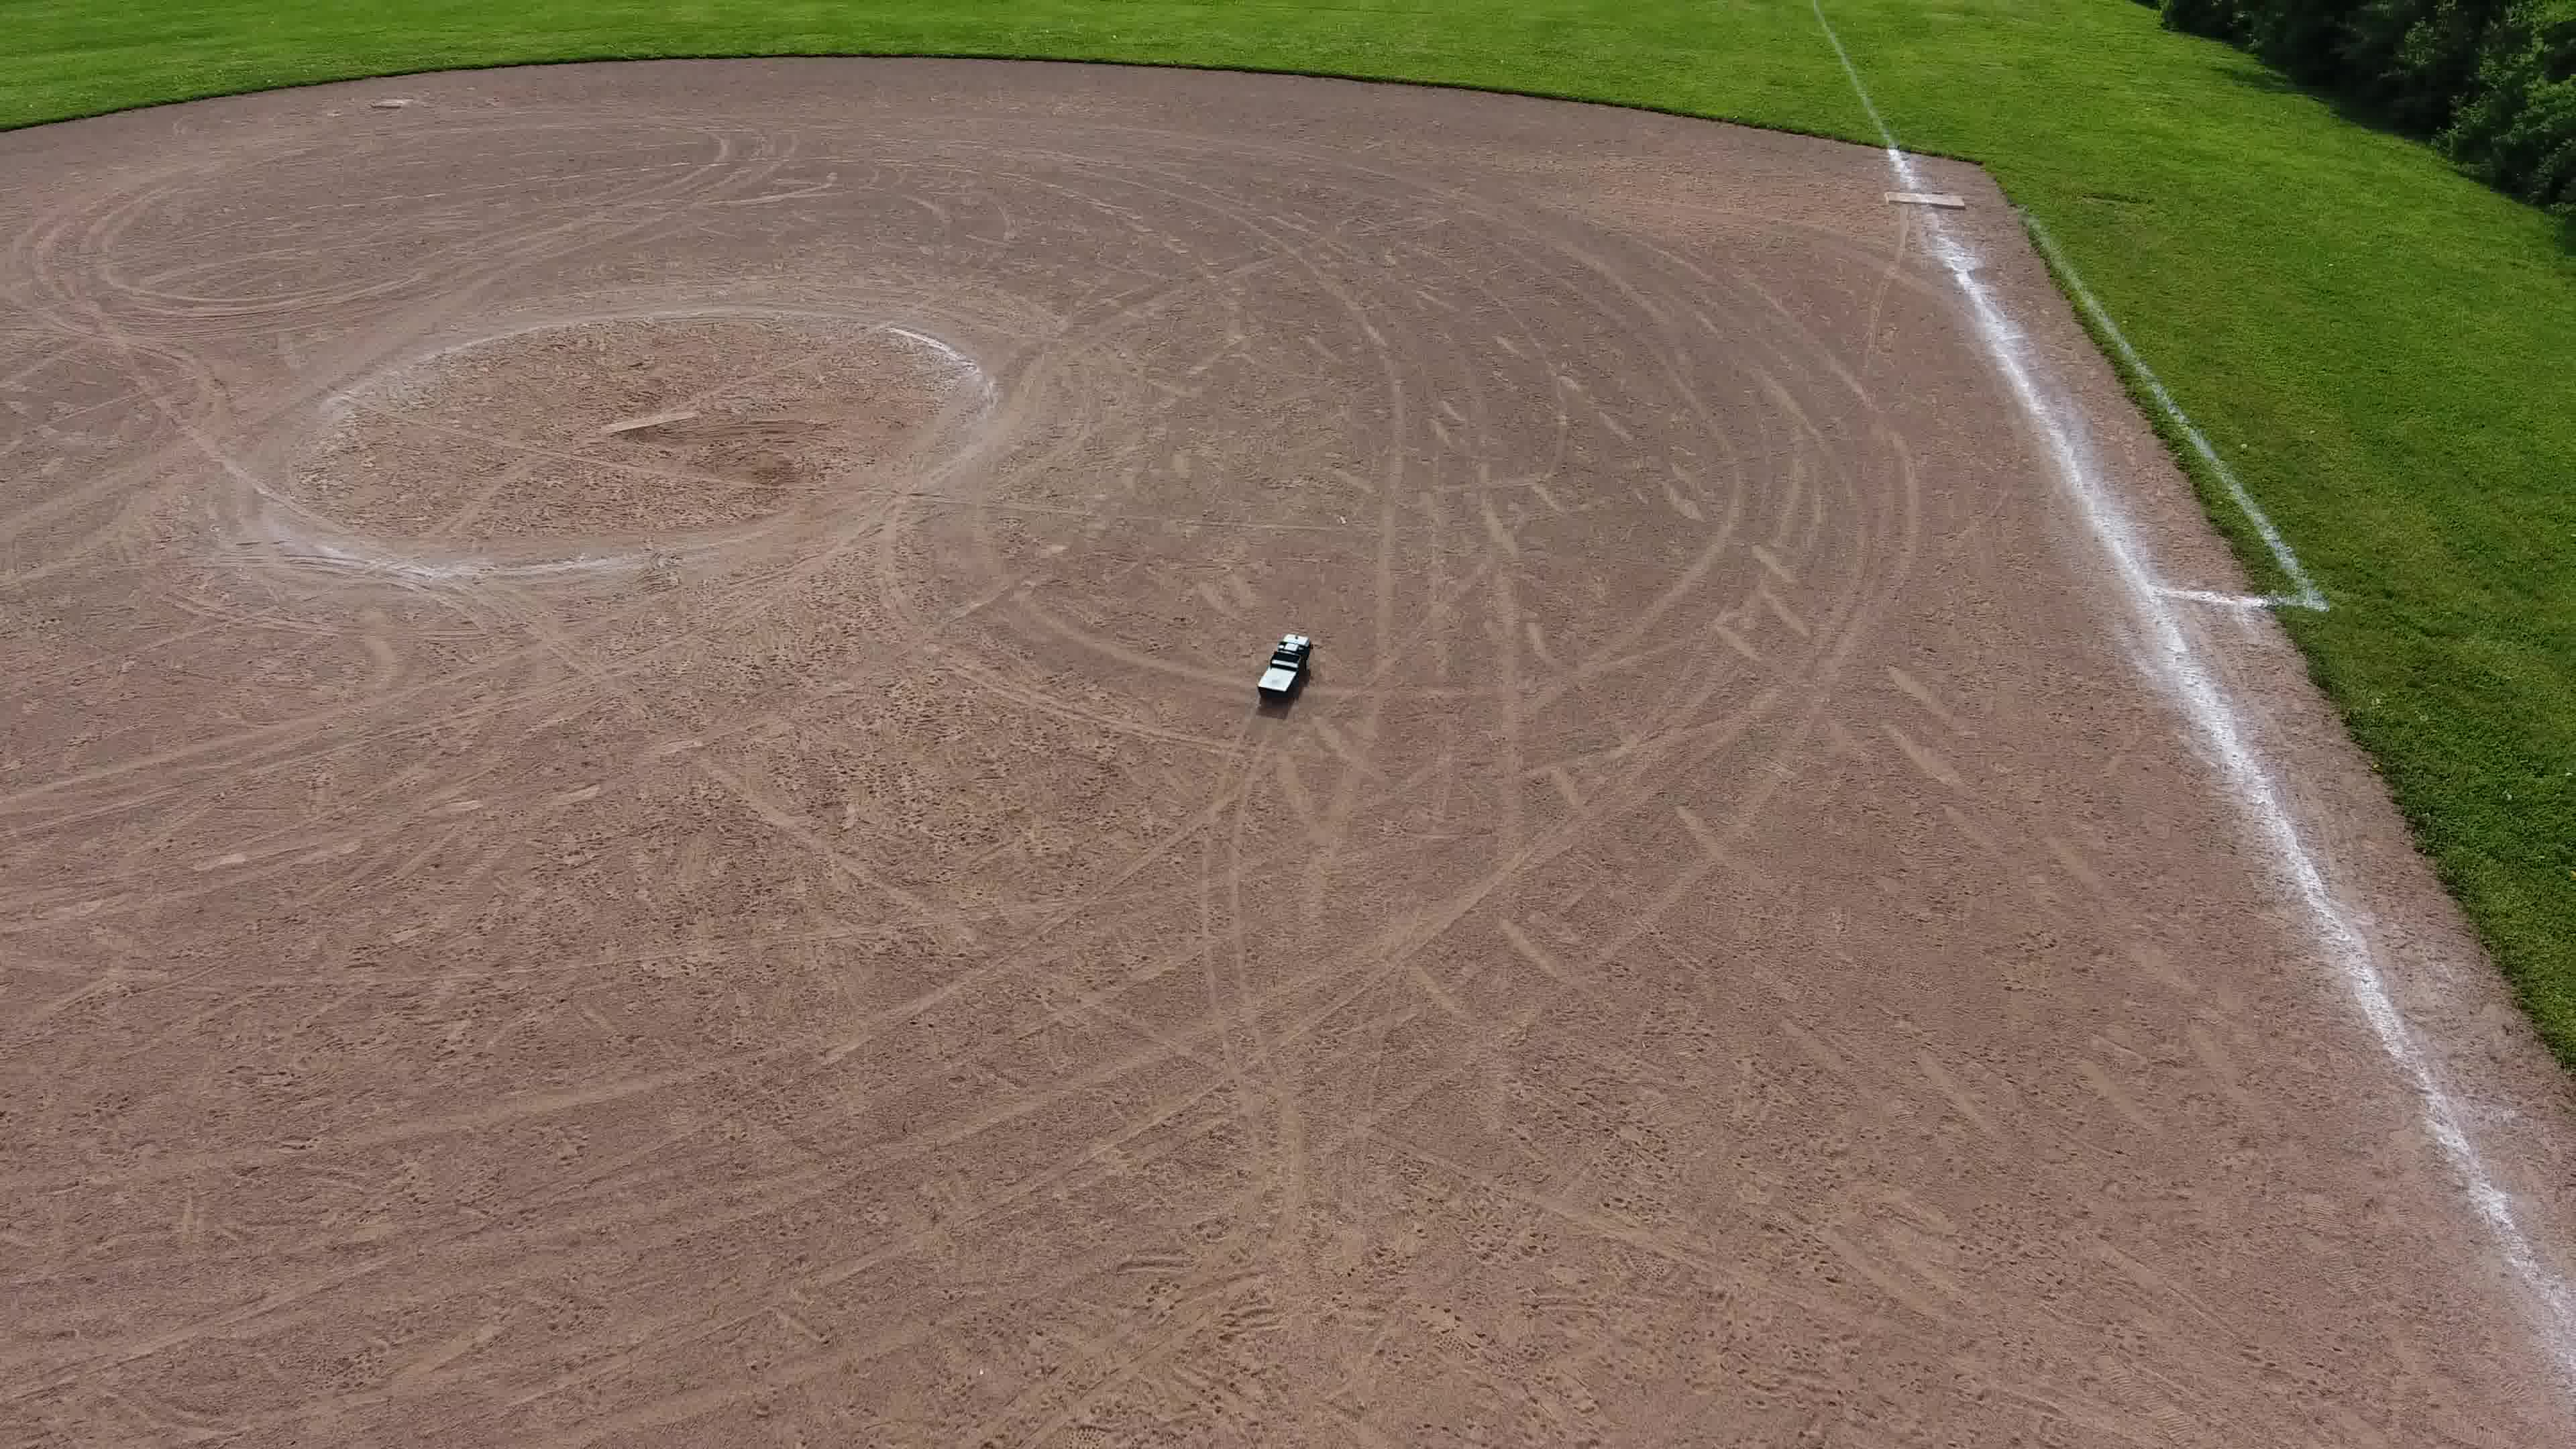transporter9: (1254, 632, 1318, 702)
